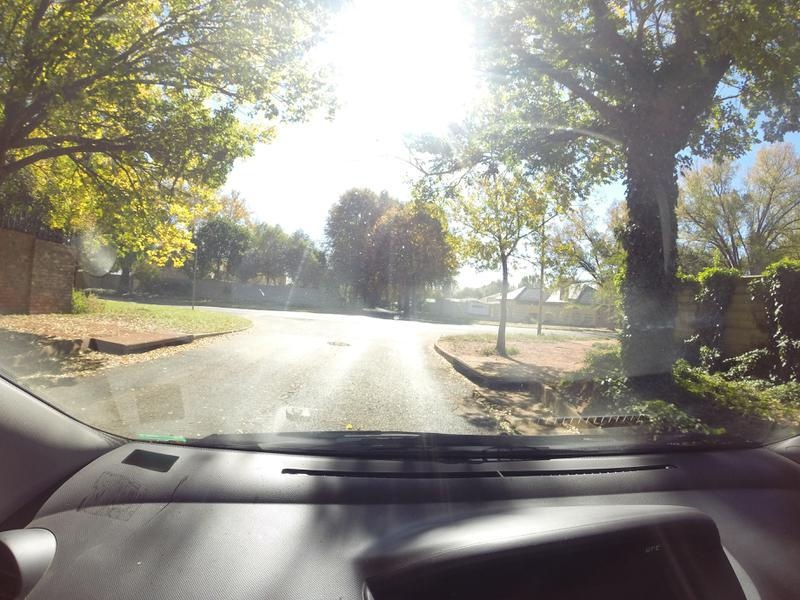pothole: (322, 340, 350, 350)
